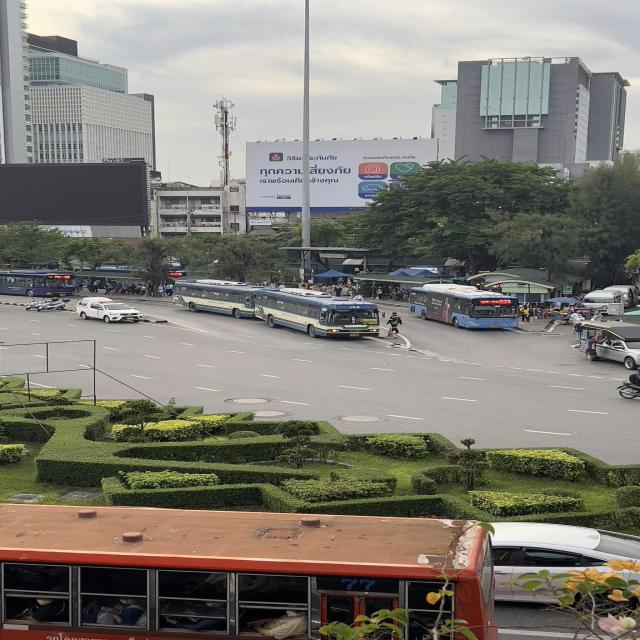BMTA-bus: (252, 284, 382, 342), (407, 282, 521, 329), (171, 277, 258, 319)
Bus-Line-Number: (348, 304, 362, 309), (499, 299, 511, 304)
Destination-Sign-Normal-Expressway: (363, 318, 378, 324), (502, 314, 516, 316)
TSB-Bus: (0, 267, 78, 298)
